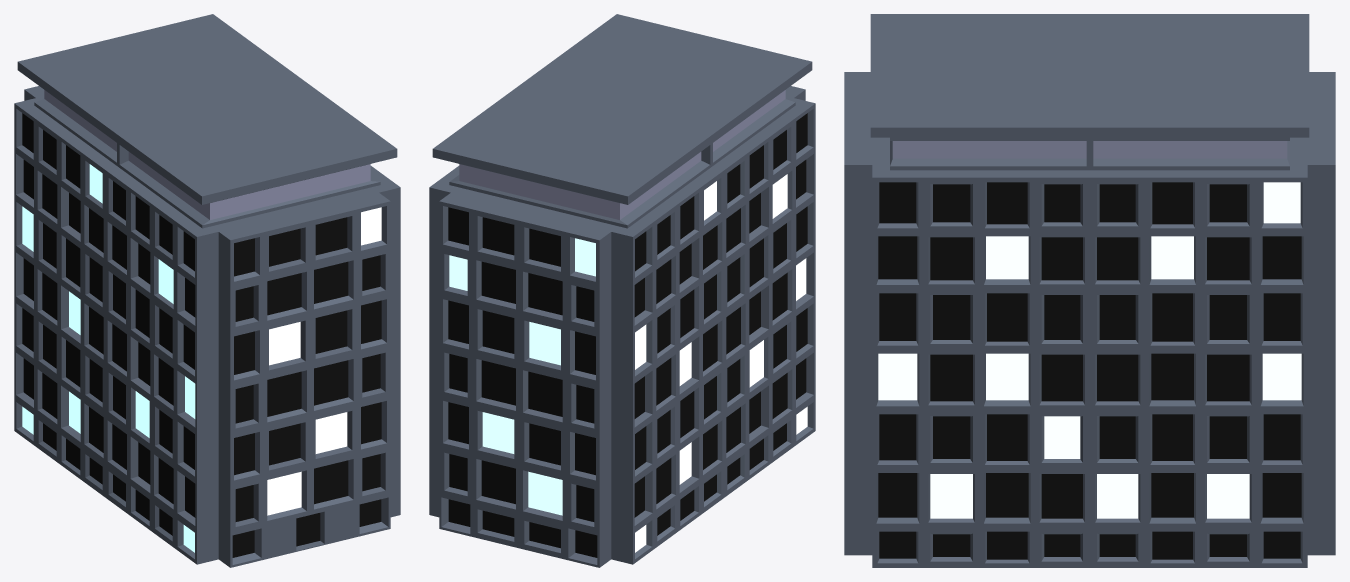
Rendered from Building3.fbx.
The picture shows the model from 3 angles, left to right: view 1: azimuth 30°, elevation 25°; view 2: azimuth 150°, elevation 25°; view 3: azimuth 270°, elevation 25°; orthographic projection. The views are drawn at different scales.
Parts seen in each view (by area): view 1: Box001.002; view 2: Box001.002; view 3: Box001.002.
Part boxes in pixels (x1,y1,x2,y2): Box001.002: (14,14,400,567); Box001.002: (429,14,815,567); Box001.002: (844,14,1335,567).
Size of the model in its own units: 948 by 1636 by 1662.
